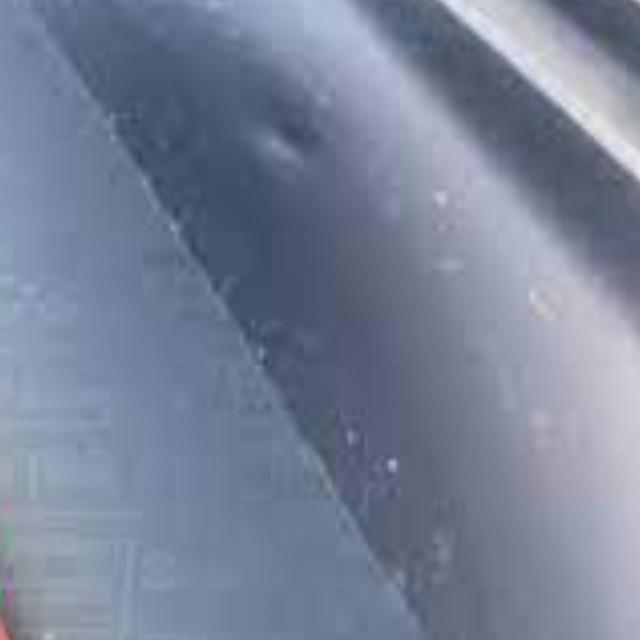dents: (247, 71, 344, 195)
